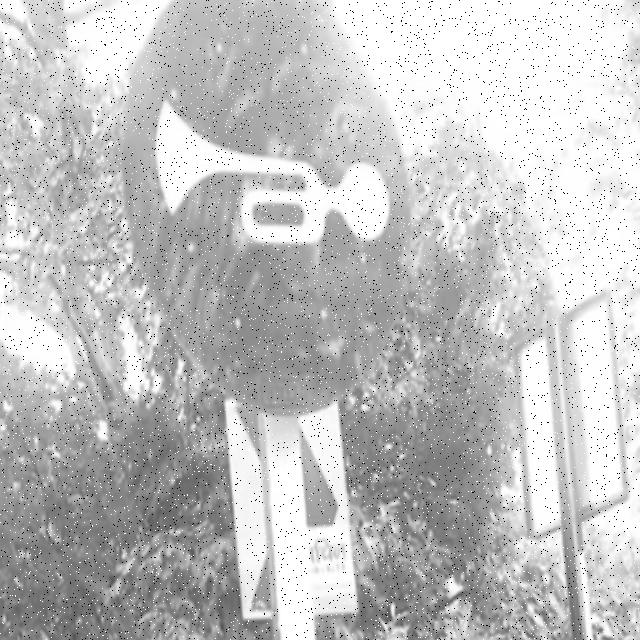chevron_right: (220, 432, 369, 625)
compulsory_soundhorn: (132, 8, 409, 415)
